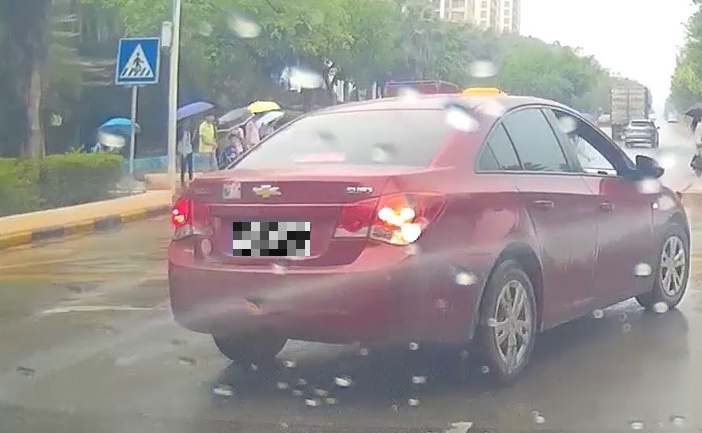L_light: (171, 198, 215, 241)
R_light: (332, 192, 448, 246)
T_light: (292, 151, 347, 164)
day-right: (166, 97, 478, 385)
plate_1: (233, 222, 310, 256)
